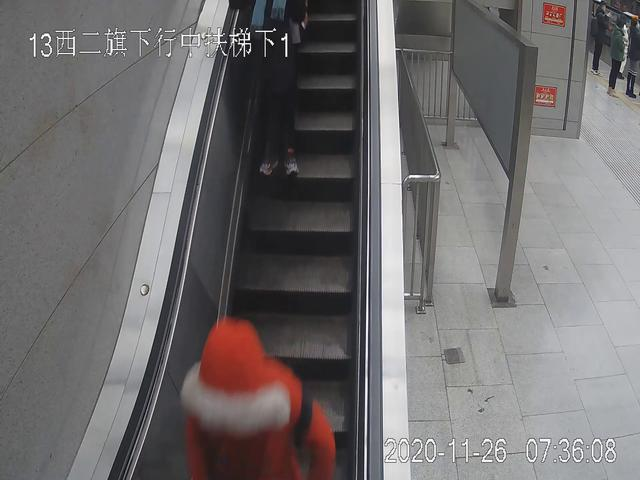person: (177, 319, 334, 480), (228, 1, 308, 176), (608, 17, 624, 100), (591, 1, 605, 75)
